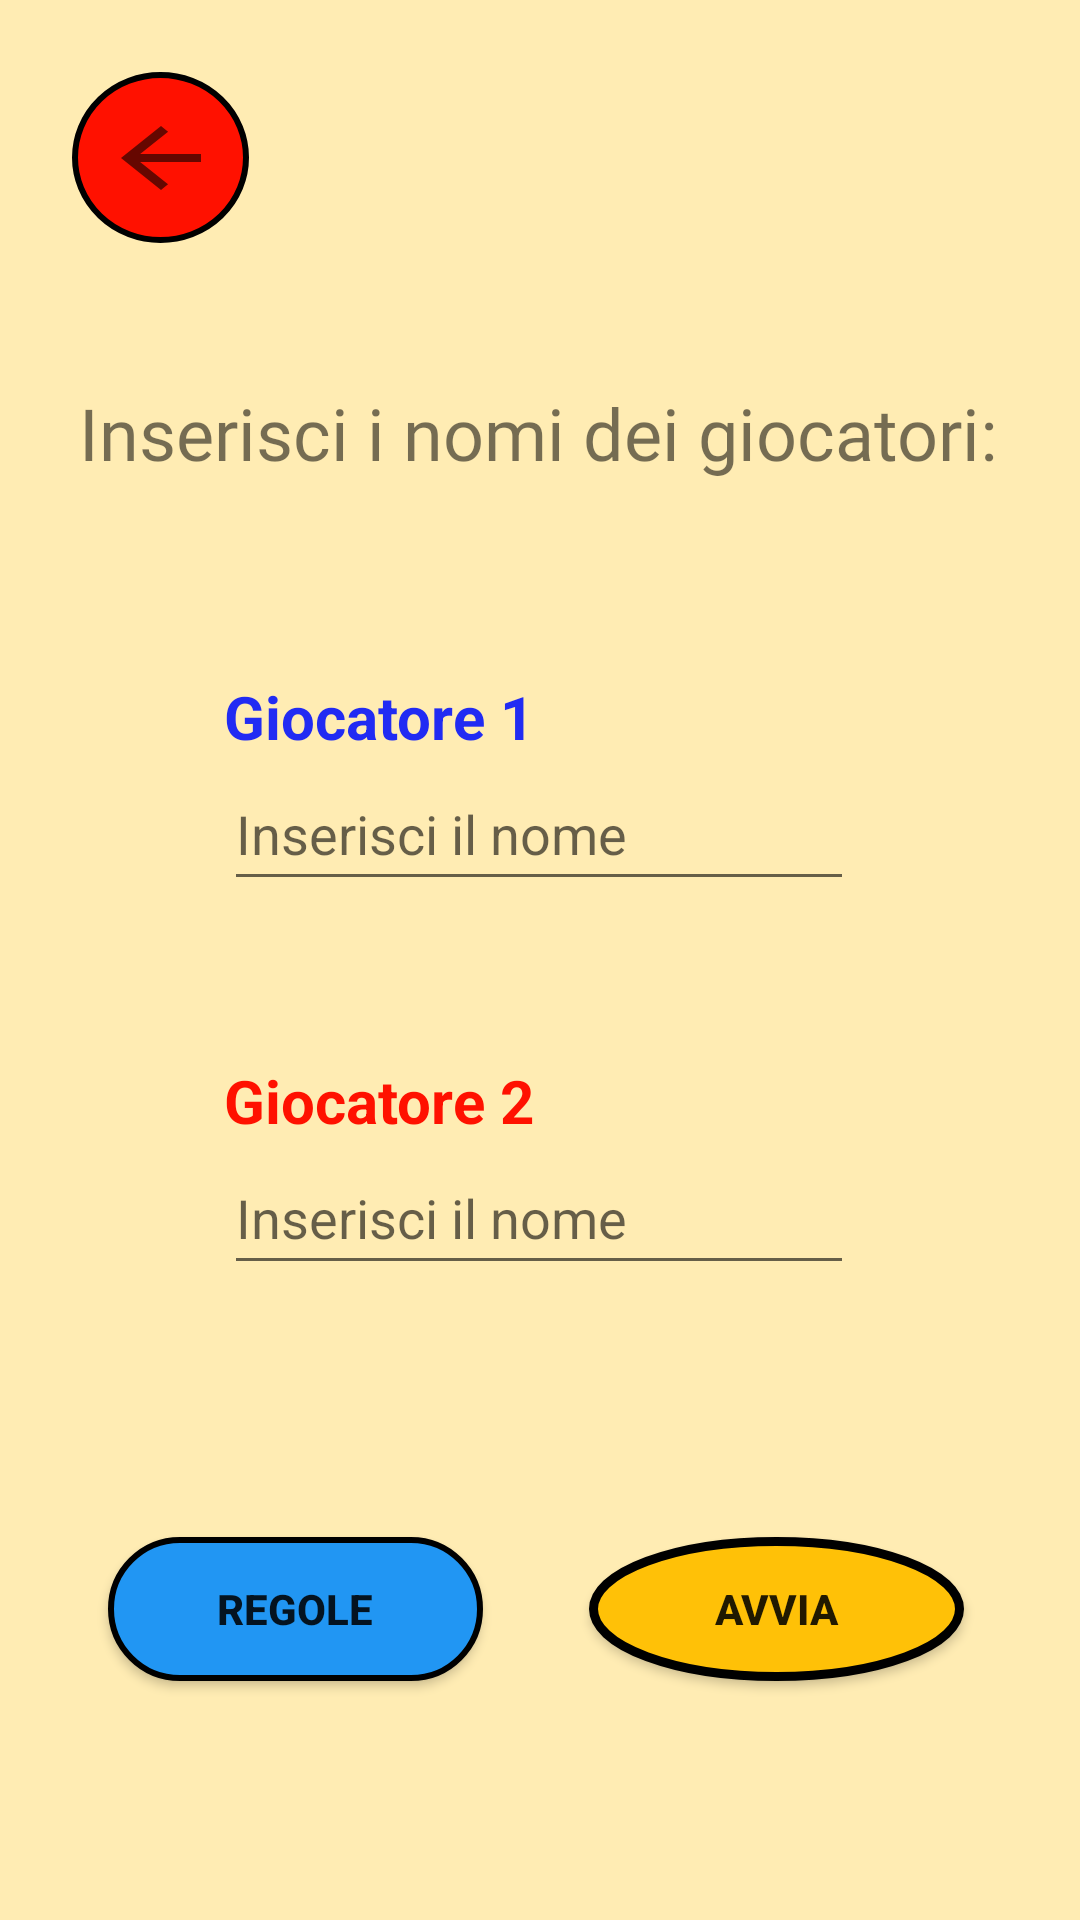

Where to tap for icons on this 1080 × 1920 app screen, as point (x, y):
arrow back: point (160, 157)
